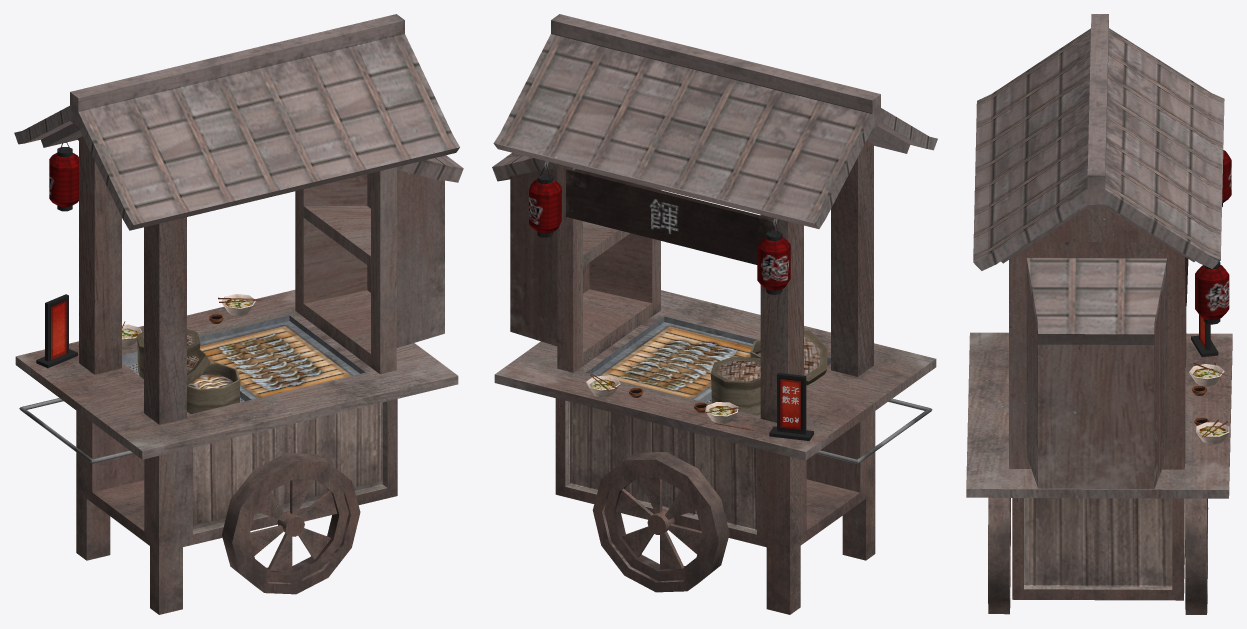
Rendered from NNJ0210001.fbx.
3 views of the same model, side by side, from view 1: azimuth 30°, elevation 25°; view 2: azimuth 150°, elevation 25°; view 3: azimuth 270°, elevation 25° (orthographic). The views are drawn at different scales.
Visible parts, largest first — view 1: smNNJ0210001; view 2: smNNJ0210001; view 3: smNNJ0210001.
Part boxes in pixels (bbox=[...]): smNNJ0210001: bbox=[14, 14, 463, 614]; smNNJ0210001: bbox=[492, 14, 937, 614]; smNNJ0210001: bbox=[966, 14, 1232, 614].
Bounding box in the file's own units: 262 × 330 × 156.
1 material, 1 textured.
